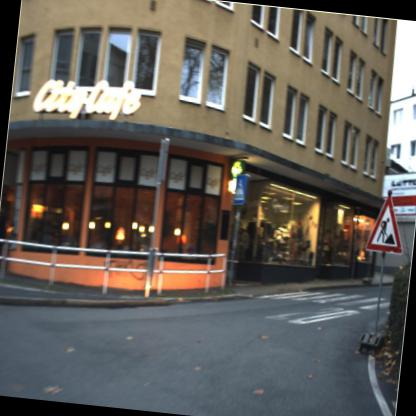danger: (360, 186, 406, 260)
mandatory: (224, 168, 252, 212)
